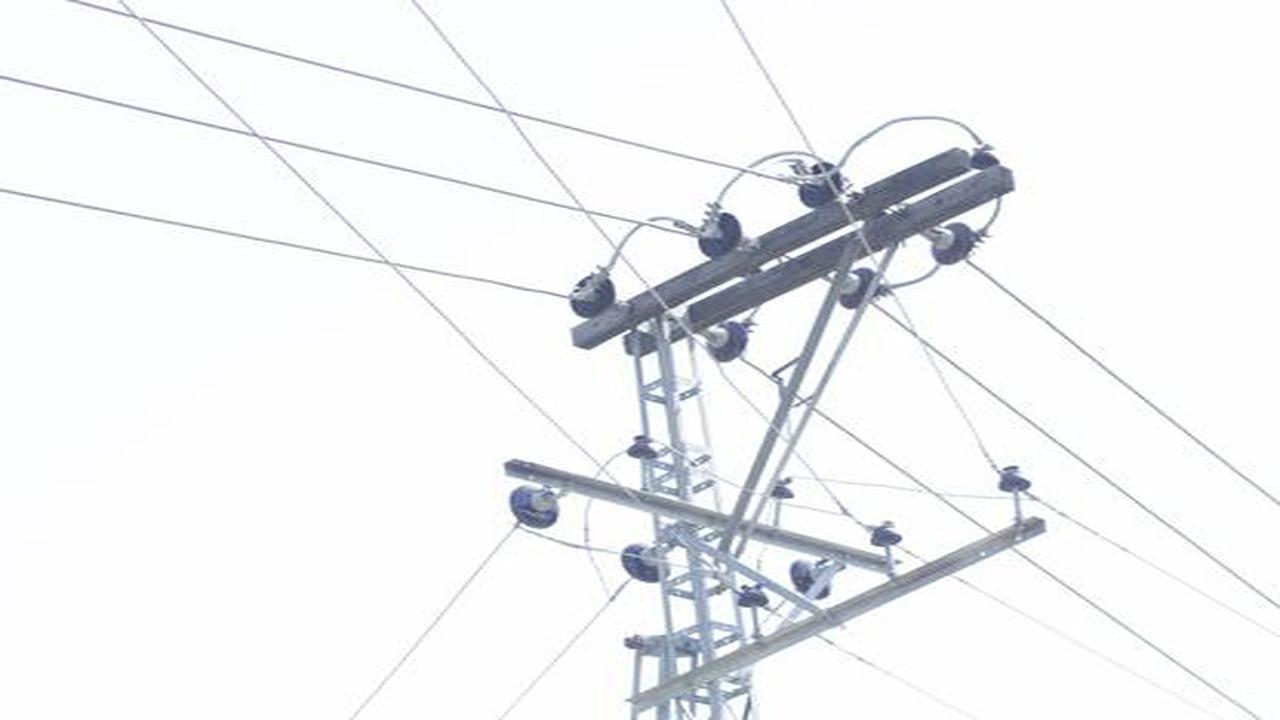insulator_disc: (795, 156, 848, 212), (507, 483, 565, 531), (620, 541, 675, 590), (568, 272, 619, 320), (696, 212, 745, 259), (702, 323, 751, 369), (789, 555, 836, 602), (930, 224, 979, 269), (837, 267, 876, 309)
insulator_pin: (997, 462, 1037, 500), (865, 515, 905, 551), (734, 578, 773, 612), (967, 140, 1006, 169), (627, 432, 660, 465), (773, 476, 797, 505)
